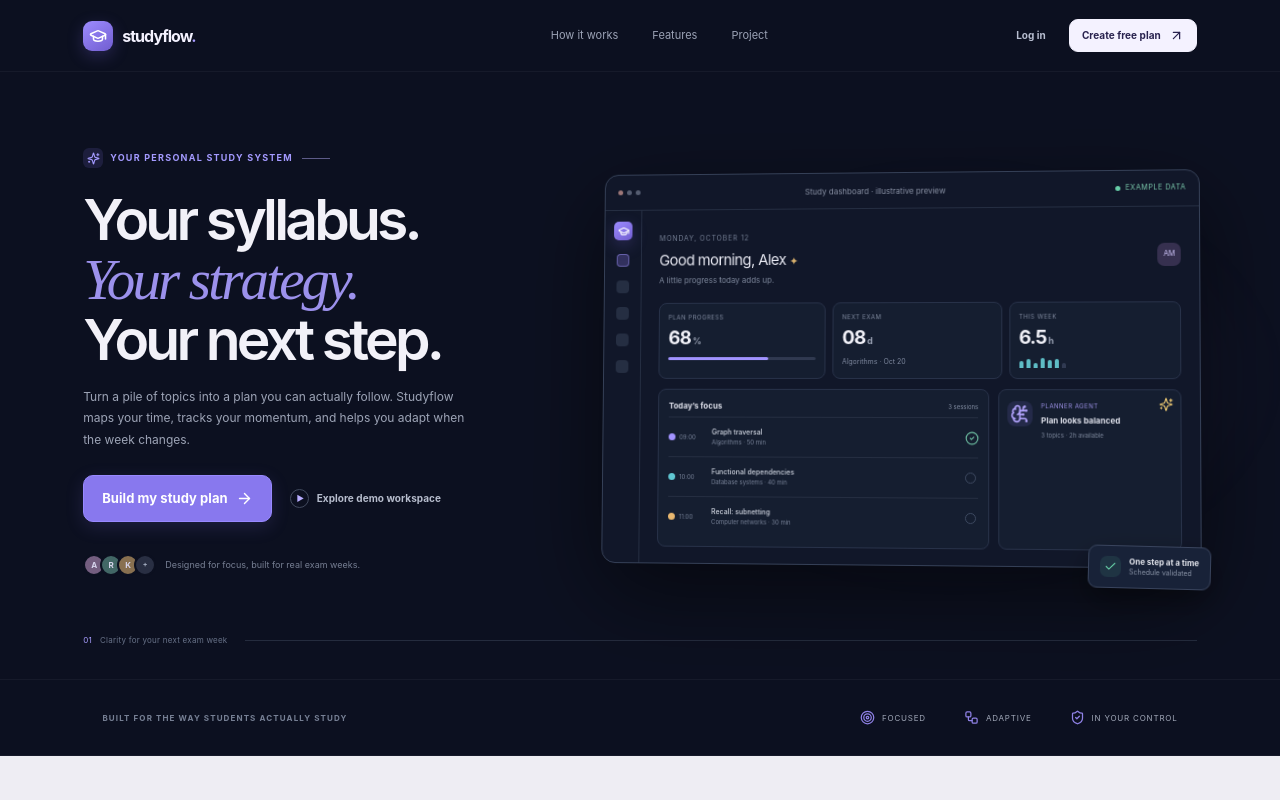
it: account registration UI flow › uses the authenticated registration response and opens the workspace without a second login request
This screenshot has width=1280, height=800.
Click the button "Build my study plan". click: (177, 498)
box: [83,475,272,522]
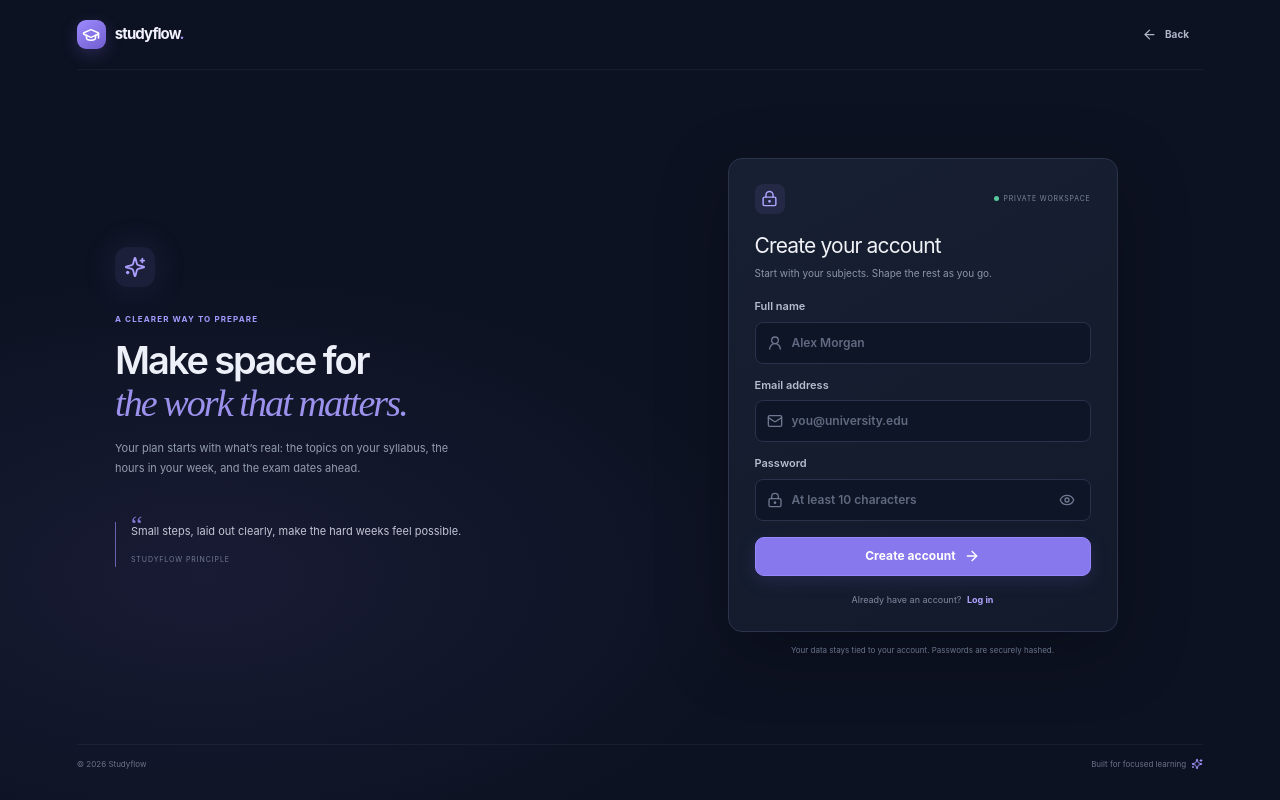
Type "Taylor Student" into the field labelled "Full name". click: (935, 343)
box: [792,323,1078,363]
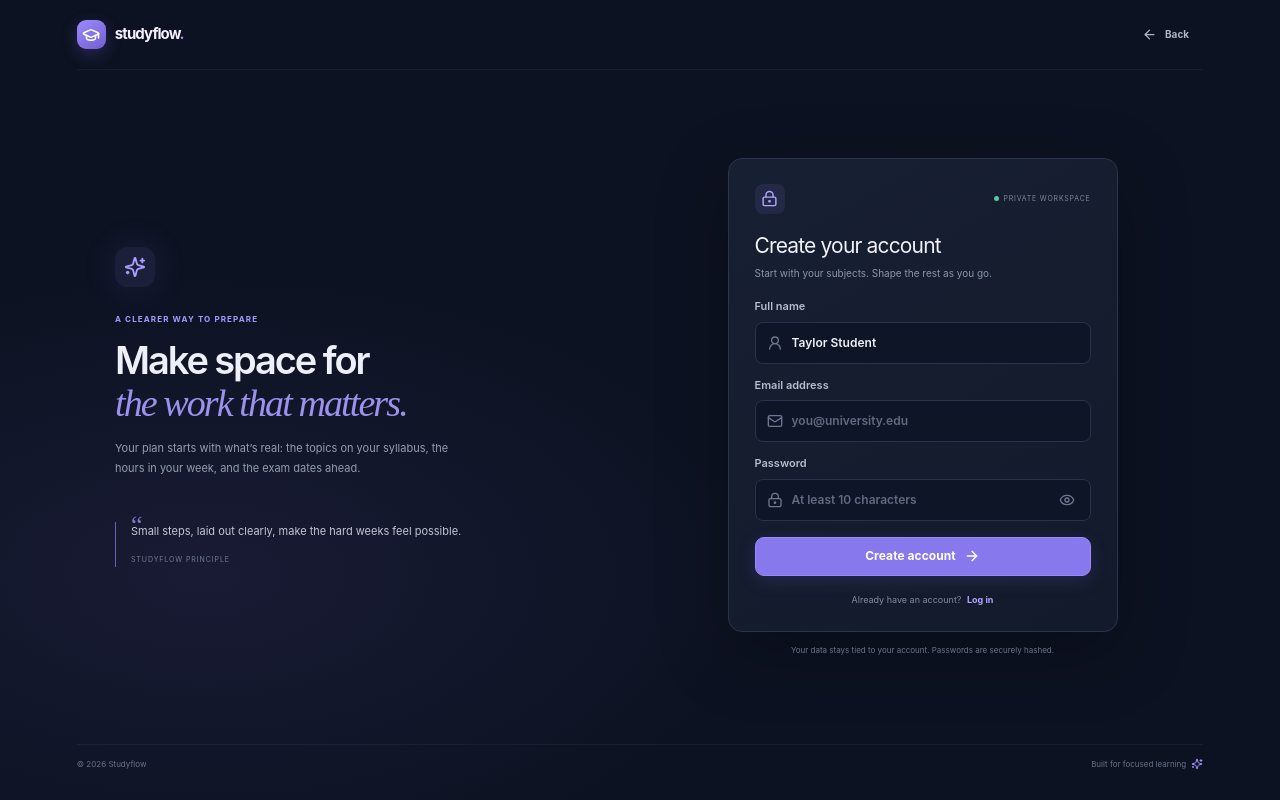
Type "taylor@example.test" into the field labelled "Email address". click: (935, 421)
box: [792,401,1078,441]
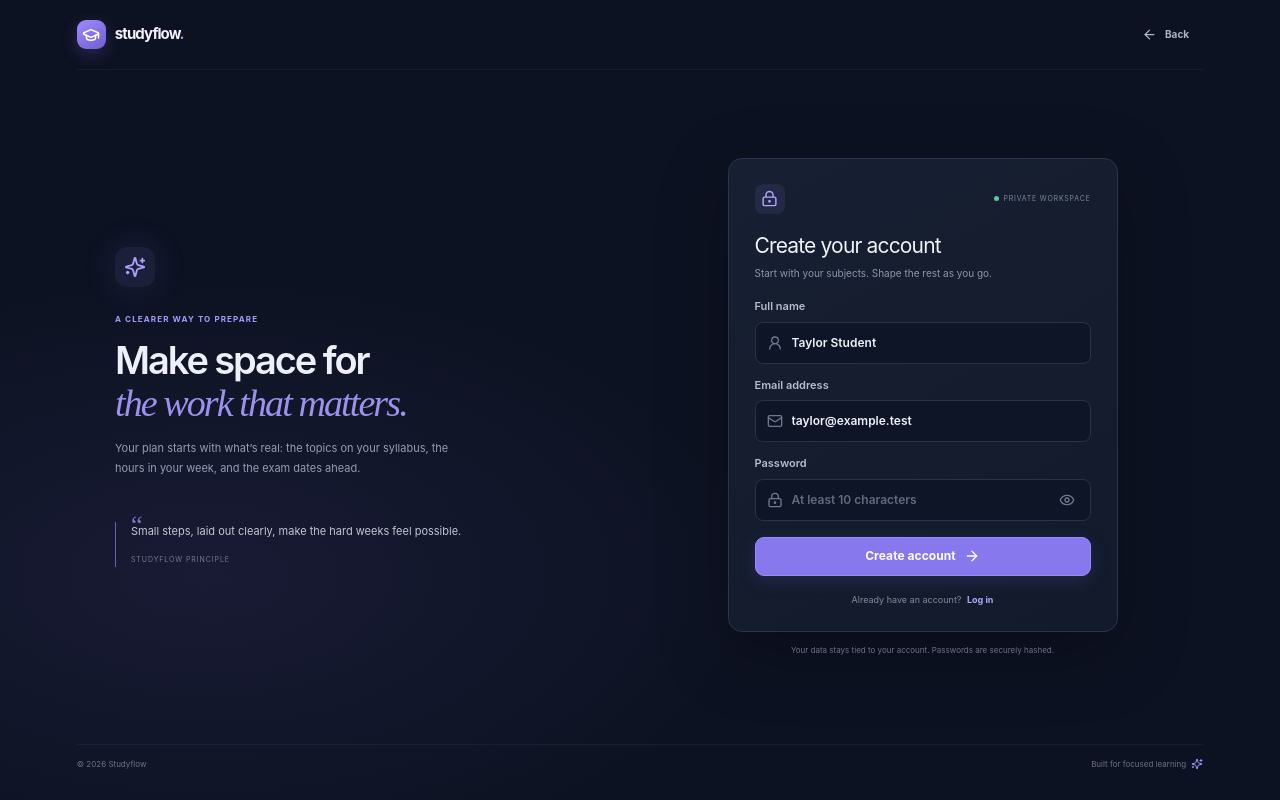
Type "StrongPass123!" into the password field labelled "Password". click: (918, 500)
box: [792,480,1046,520]
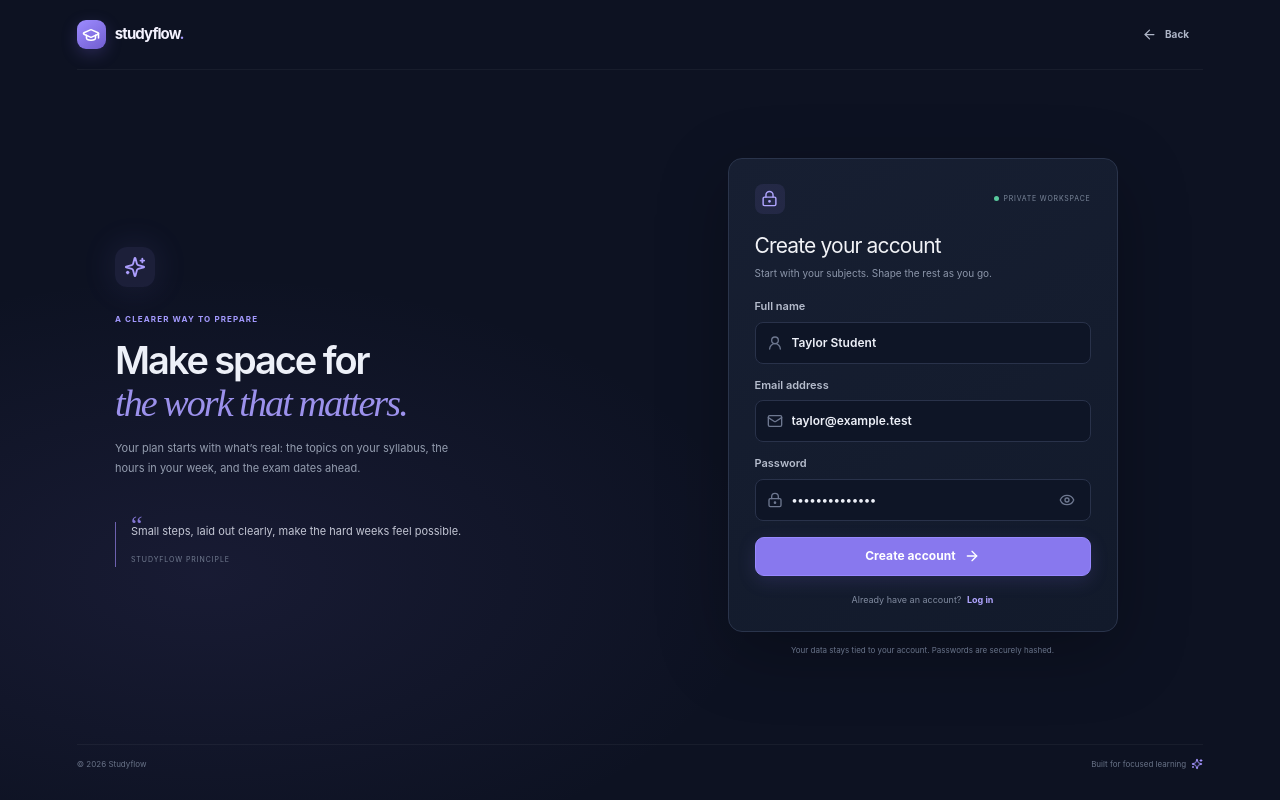
Click the button "Create account". click: (922, 556)
box: [754,537,1090,576]
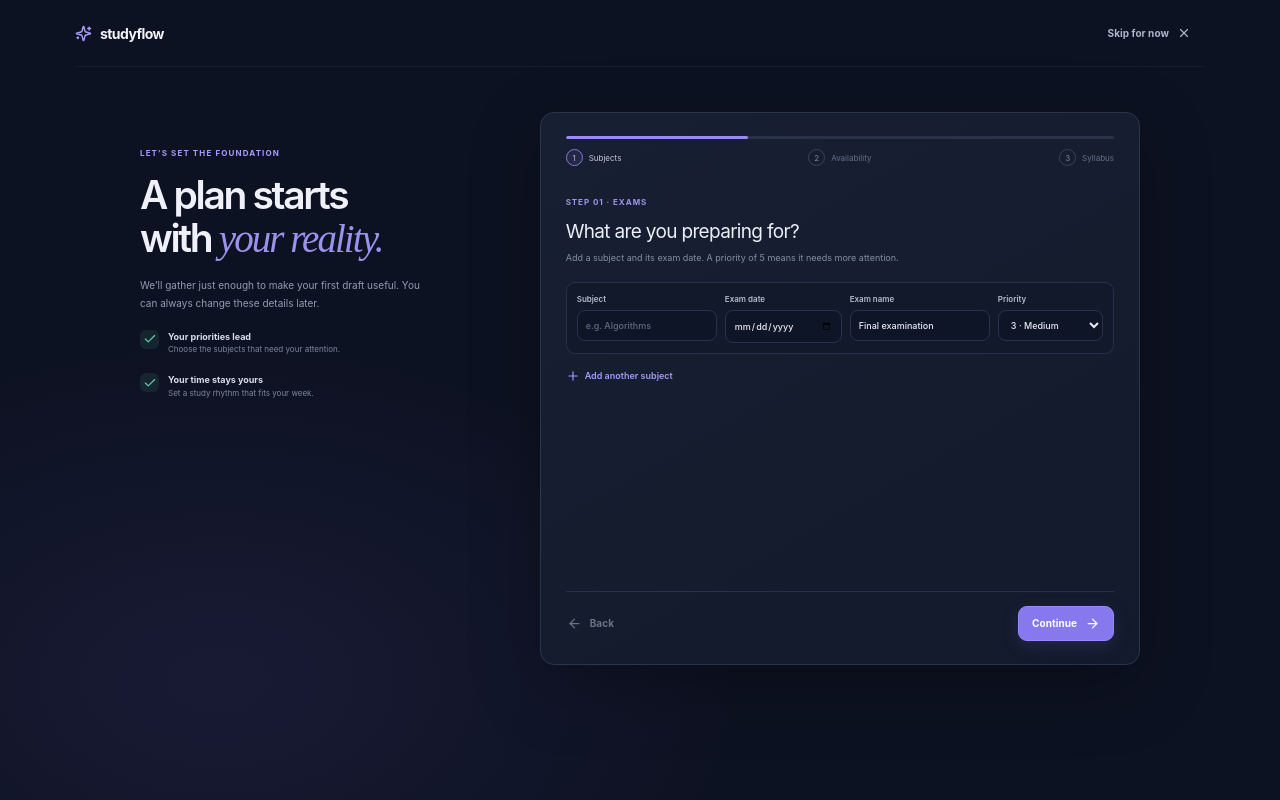
Expected: the heading "What are you preparing for?" is shown, [566,220,799,242]
